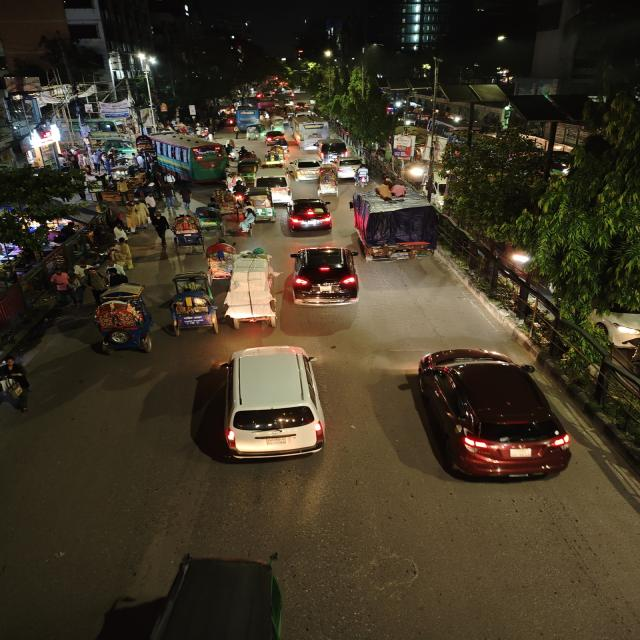bus: (153, 134, 230, 182), (295, 117, 330, 143), (235, 106, 262, 126)
car: (396, 342, 581, 493), (199, 343, 332, 470), (284, 243, 364, 311), (285, 195, 333, 233), (257, 174, 294, 201), (316, 139, 352, 160), (288, 159, 322, 181), (331, 156, 366, 177), (263, 130, 289, 146)
cng: (236, 159, 259, 179), (245, 125, 262, 142)
motorcycle: (352, 164, 372, 188), (231, 180, 248, 206)
pedestrian: (0, 351, 39, 416), (48, 268, 76, 306), (106, 239, 136, 271), (125, 201, 148, 235), (85, 267, 106, 303), (150, 213, 172, 247), (173, 180, 196, 210), (73, 270, 91, 306), (103, 264, 122, 288)
rickshaw: (90, 284, 157, 358), (165, 271, 220, 337), (222, 285, 278, 331), (170, 212, 206, 254), (203, 239, 236, 279), (220, 207, 256, 237), (246, 187, 276, 221), (316, 169, 340, 197), (195, 206, 222, 230), (236, 159, 260, 181), (264, 146, 286, 168)
truck: (350, 193, 440, 264)
